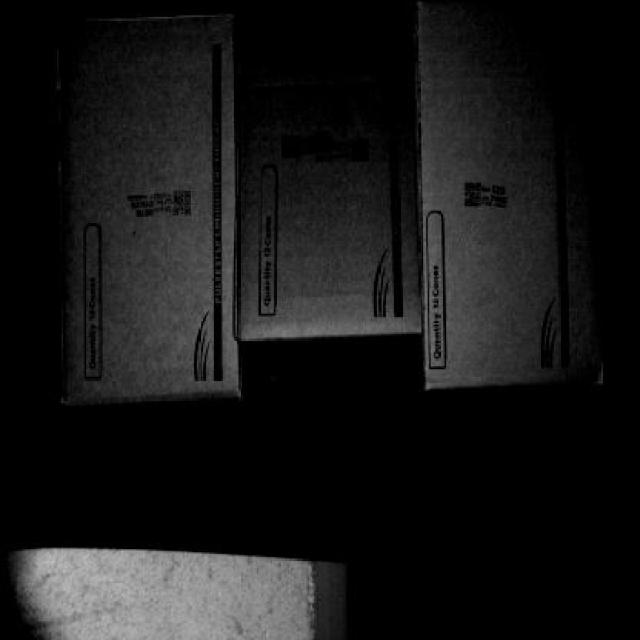cardboxes: (53, 17, 241, 391), (425, 14, 612, 388), (245, 15, 423, 334)
